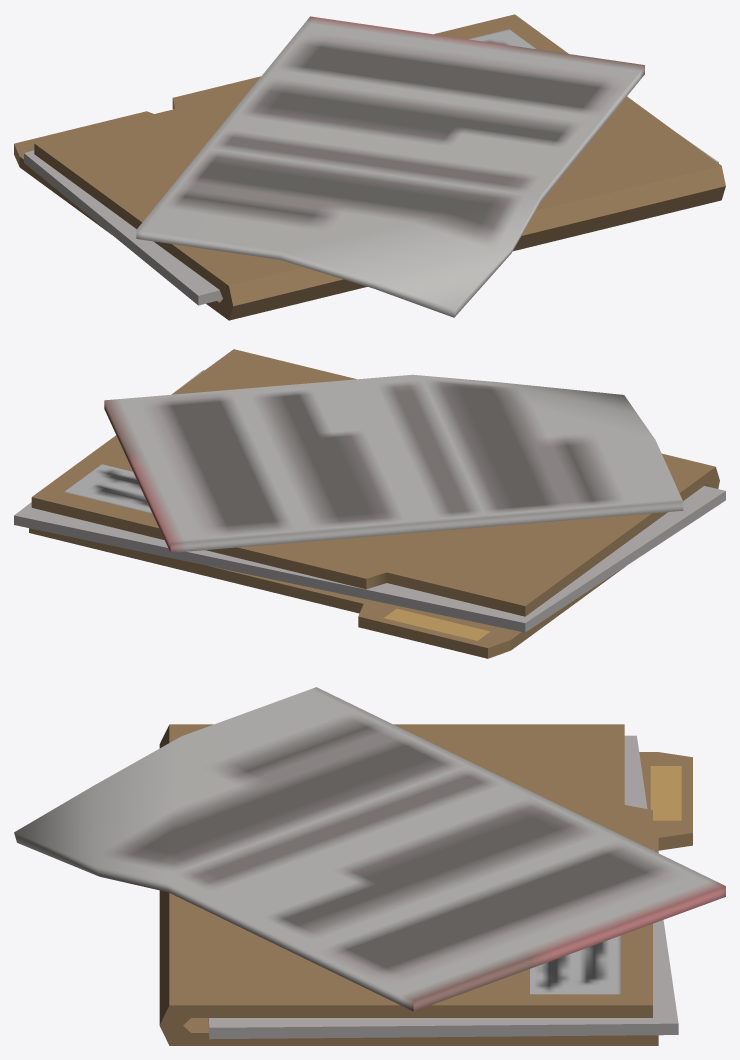
The model's file is SM_Prop_Folder_Manila_03.glb.
The picture shows the model from 3 angles, top to bottom: view 1: azimuth 30°, elevation 25°; view 2: azimuth 150°, elevation 25°; view 3: azimuth 270°, elevation 25°; orthographic projection. The views are drawn at different scales.
Visible parts, largest first — view 1: SM_Prop_Folder_Manila_03; view 2: SM_Prop_Folder_Manila_03; view 3: SM_Prop_Folder_Manila_03.
Part boxes in pixels (x1=…): SM_Prop_Folder_Manila_03: x1=14, y1=14, x2=725, y2=320; SM_Prop_Folder_Manila_03: x1=14, y1=349, x2=725, y2=658; SM_Prop_Folder_Manila_03: x1=14, y1=687, x2=725, y2=1045.
Size of the model in its own units: 0.4268 by 0.0386 by 0.4093.
Materials: 1 (1 with a texture image).
